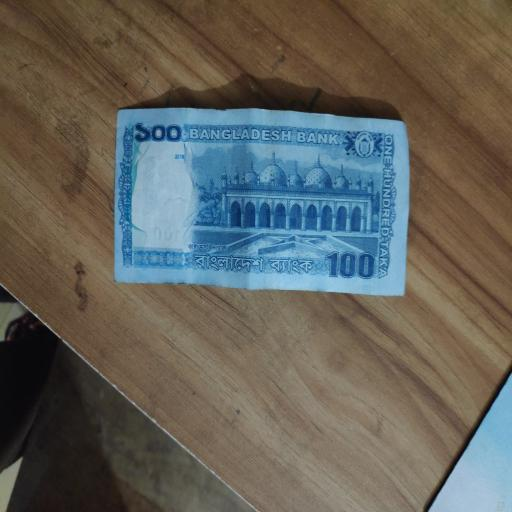100taka: (117, 109, 408, 302)
